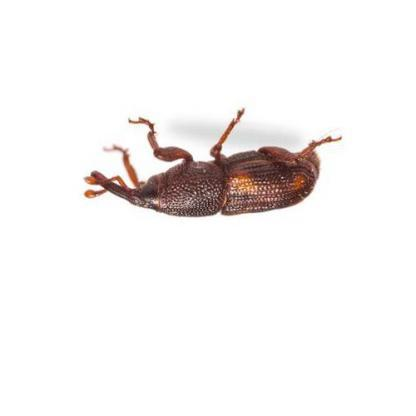rice-bug: (86, 118, 340, 220)
